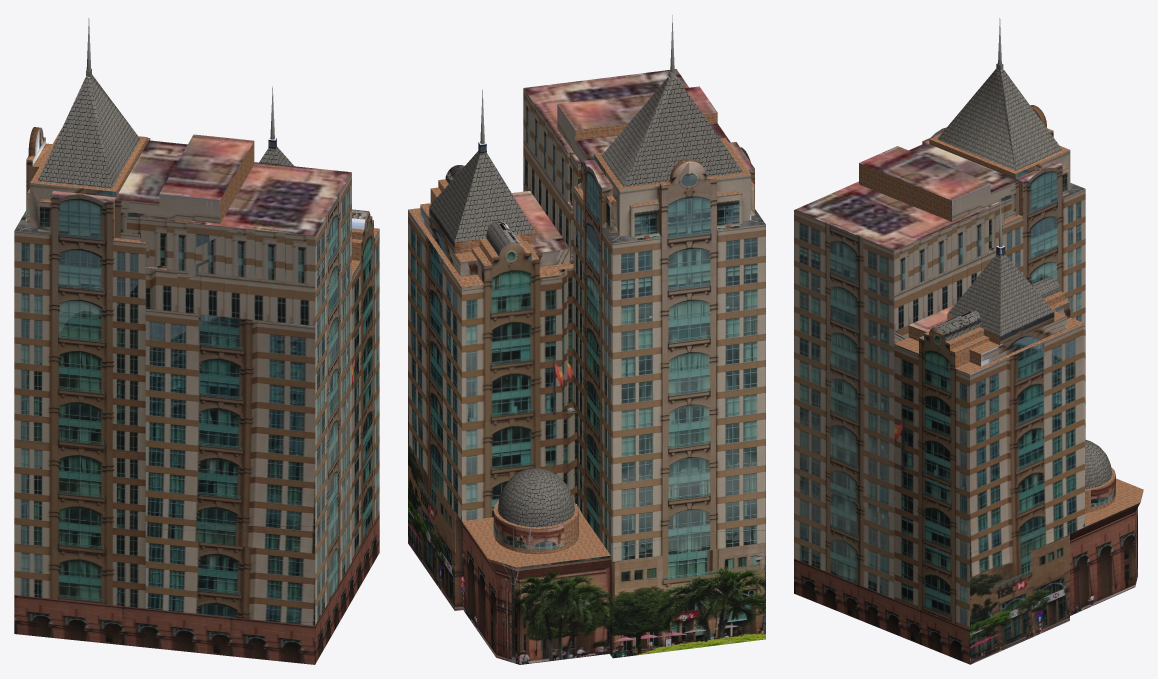
The model's file is Metropolianfix.fbx.
3 renders of one model, left to right at view 1: azimuth 30°, elevation 25°; view 2: azimuth 150°, elevation 25°; view 3: azimuth 270°, elevation 25°, orthographic. The views are drawn at different scales.
Visible parts, largest first — view 1: Mesh1_HSBC1_Model; view 2: Mesh1_HSBC1_Model; view 3: Mesh1_HSBC1_Model.
Boxes of the visible parts, <box> form: Mesh1_HSBC1_Model: <box>14,18,379,664</box>; Mesh1_HSBC1_Model: <box>408,15,765,664</box>; Mesh1_HSBC1_Model: <box>794,18,1143,664</box>.
Size of the model in its own units: 2133 by 3396 by 2026.
187 materials, 186 textured.
